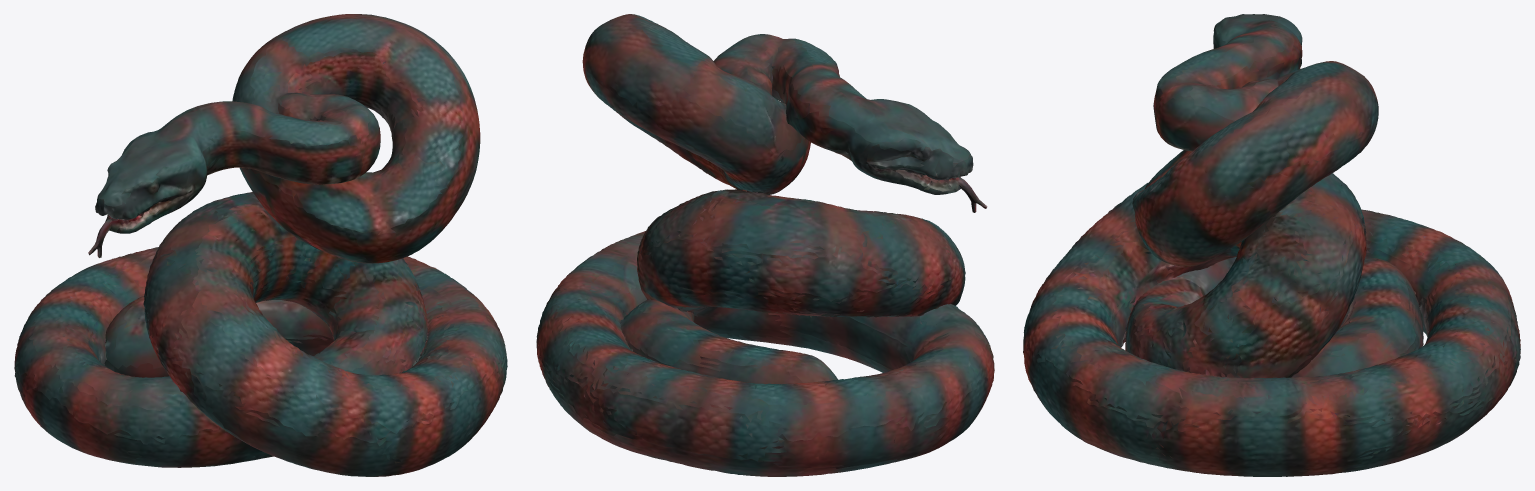
File: bashe.glb
3 renders of one model, left to right at view 1: azimuth 30°, elevation 25°; view 2: azimuth 150°, elevation 25°; view 3: azimuth 270°, elevation 25°, orthographic. The views are drawn at different scales.
Parts seen in each view (by area): view 1: geometry_0; view 2: geometry_0; view 3: geometry_0.
Part boxes in pixels (<box>): geometry_0: <box>14,14,507,476</box>; geometry_0: <box>536,14,994,476</box>; geometry_0: <box>1023,14,1520,476</box>.
Bounding box in the file's own units: 1.2 × 0.9571 × 1.2.
1 material, 1 textured.
